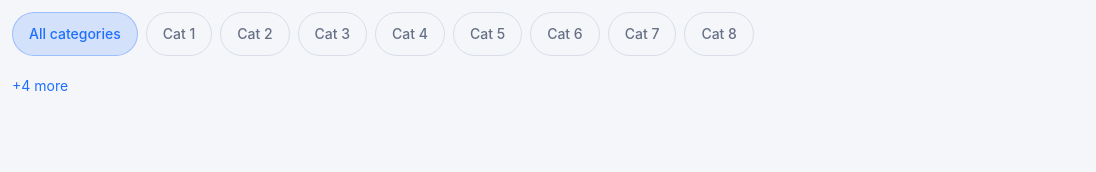
CategoryMultiSelect › expands to show all categories when "+N more" is clicked
Click the button "+4 more".
click(40, 86)  # box x1=12 y1=64 x2=68 y2=108
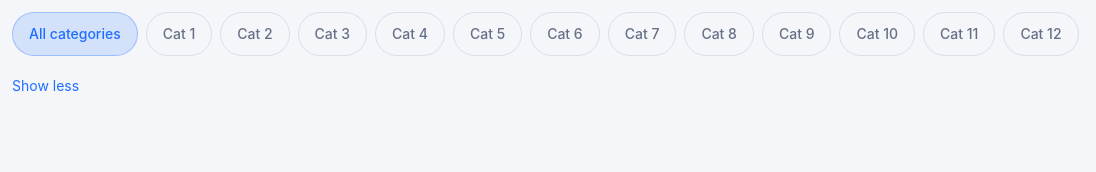
Now the button "Cat 9" is shown, box x1=762 y1=12 x2=831 y2=56
Now the button "Cat 12" is shown, box x1=1003 y1=12 x2=1079 y2=56
Now the button "Show less" is shown, box x1=12 y1=64 x2=79 y2=108
